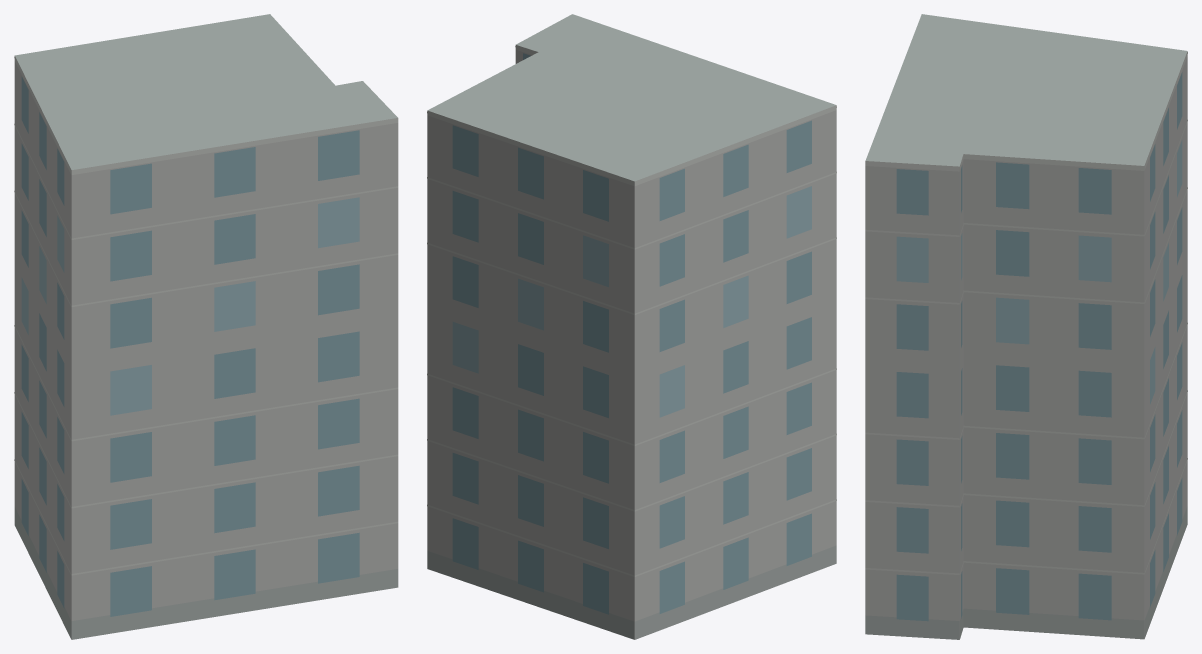
File: survey-upis-32733765.glb
The picture shows the model from 3 angles, left to right: view 1: azimuth 30°, elevation 25°; view 2: azimuth 150°, elevation 25°; view 3: azimuth 270°, elevation 25°; orthographic projection. The views are drawn at different scales.
Parts seen in each view (by area): view 1: survey-upis-32733765.tmp; view 2: survey-upis-32733765.tmp; view 3: survey-upis-32733765.tmp.
Boxes of the visible parts, x1,y1,x2,y2 form: survey-upis-32733765.tmp: [14, 14, 398, 639]; survey-upis-32733765.tmp: [427, 14, 836, 639]; survey-upis-32733765.tmp: [865, 14, 1187, 639].
Bounding box in the file's own units: 15.85 × 22.9 × 14.15.
